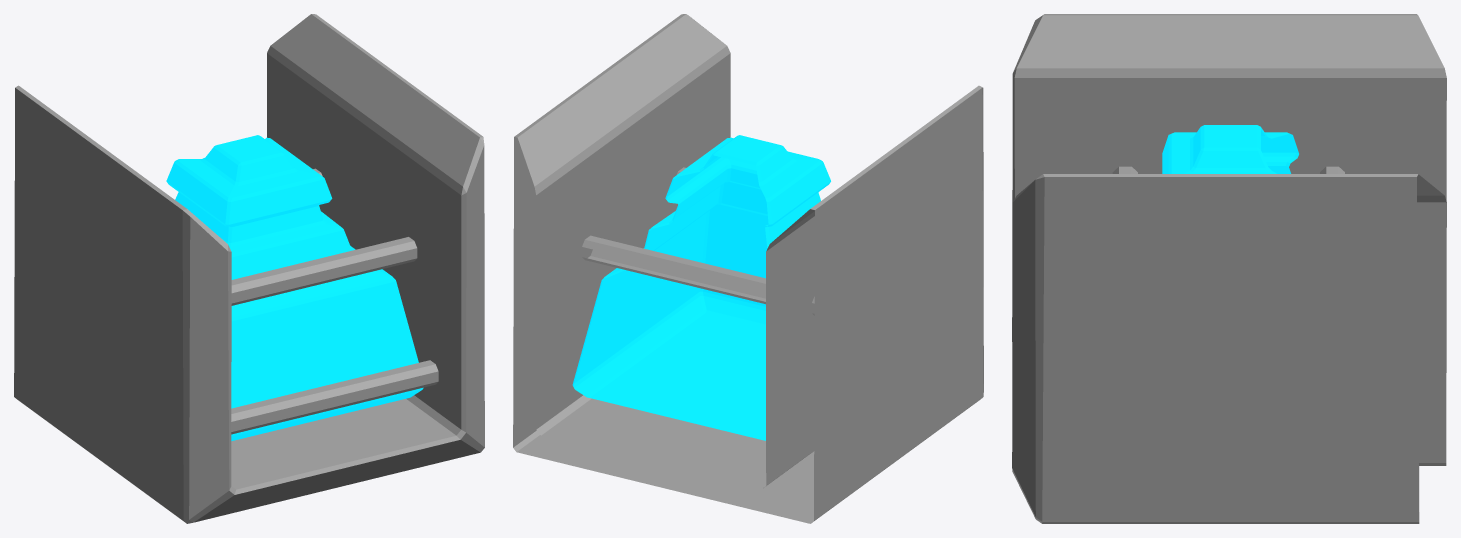
File: Pusher.fbx
3 views of the same model, side by side, from view 1: azimuth 30°, elevation 25°; view 2: azimuth 150°, elevation 25°; view 3: azimuth 270°, elevation 25° (orthographic). The views are drawn at different scales.
Visible parts, largest first — view 1: pCube8; view 2: pCube8; view 3: pCube8.
Boxes of the visible parts, box(x1,y1,x2,y2) form: pCube8: box(14, 14, 484, 523); pCube8: box(513, 14, 983, 523); pCube8: box(1012, 14, 1446, 523).
Size of the model in its own units: 1 by 0.9998 by 1.13.
